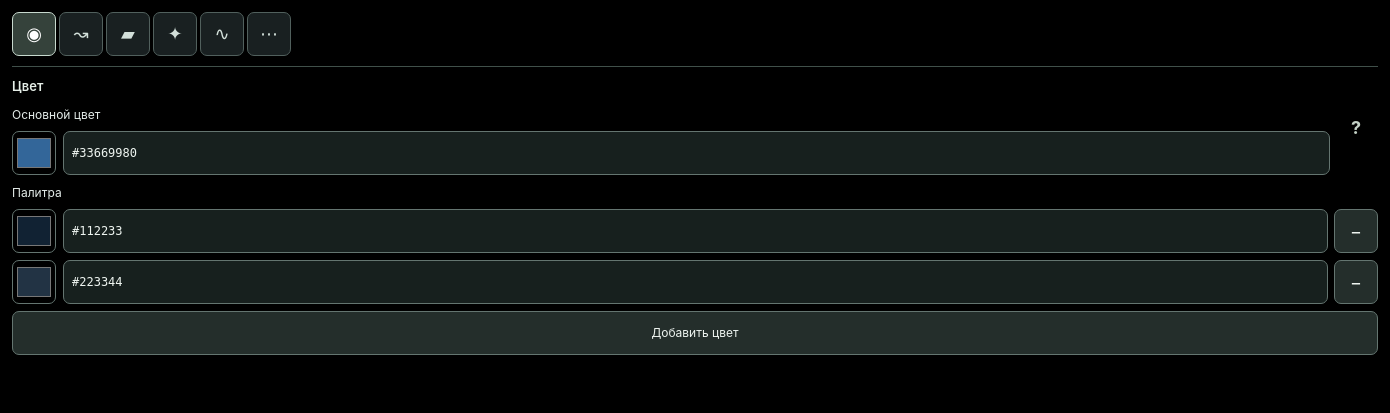
it: reveals long parameter guidance only after an explicit request
Expected: the text "Тон главной поверхности." is not shown
Click the button named "Описание «Основной цвет»": point(1356, 128) [1334,106,1378,150]
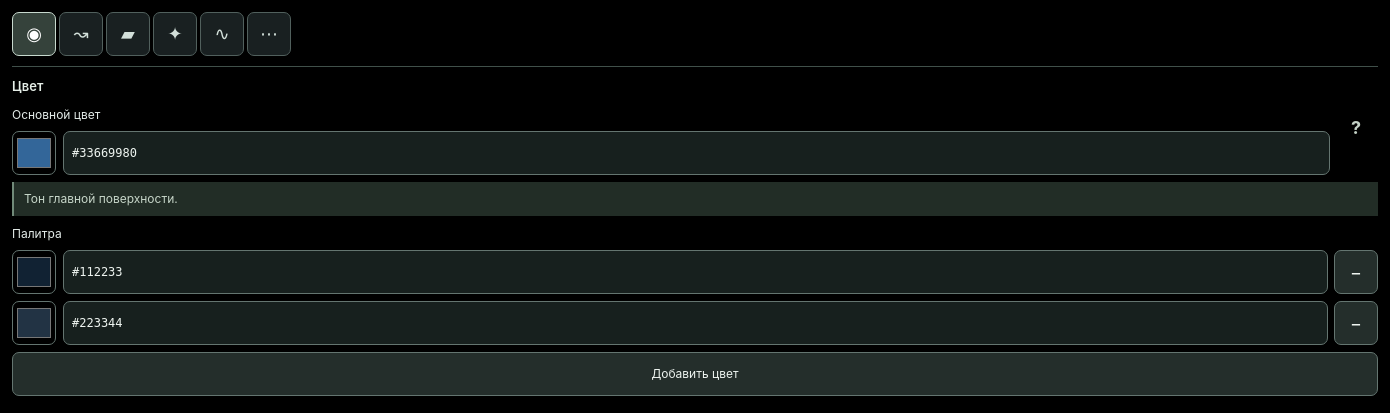
Now the text "Тон главной поверхности." is shown, box [12,182,1378,216]
